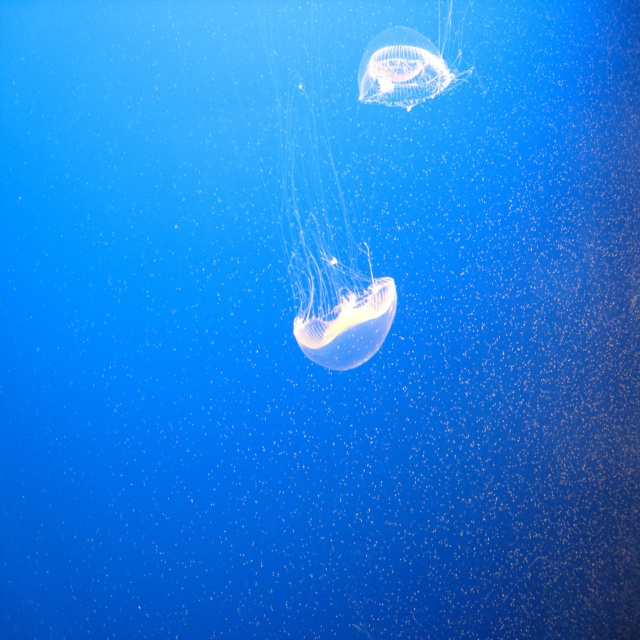Jellyfish: (292, 246, 400, 377), (356, 0, 474, 115)
